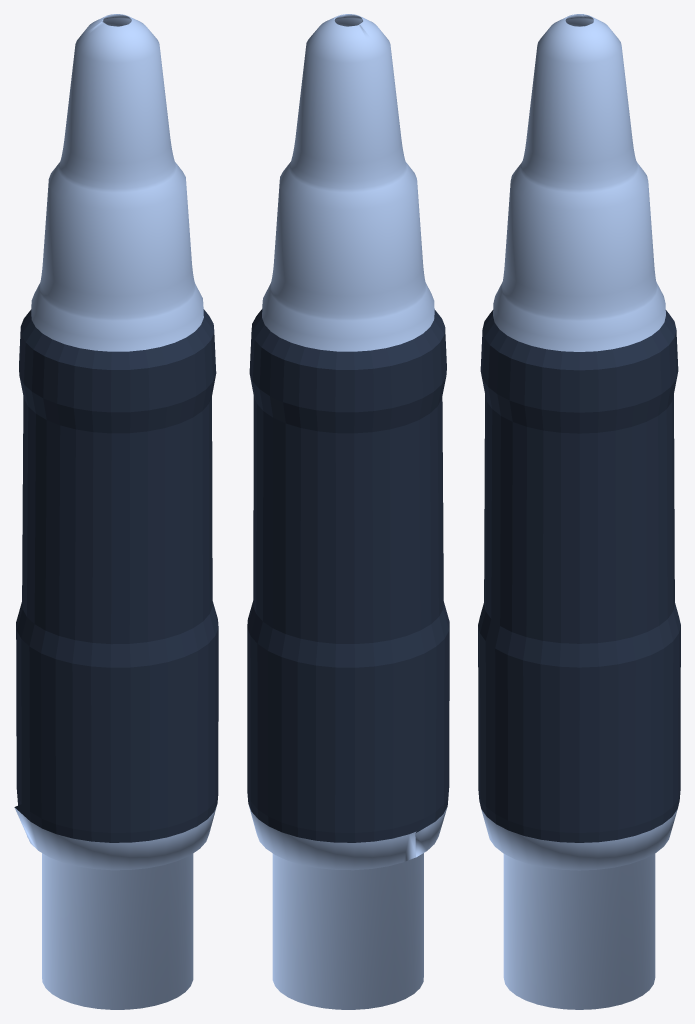
The model's file is pen1_1.fbx.
3 renders of one model, left to right at view 1: azimuth 30°, elevation 25°; view 2: azimuth 150°, elevation 25°; view 3: azimuth 270°, elevation 25°, orthographic.
Parts seen in each view (by area): view 1: pen1_1; view 2: pen1_1; view 3: pen1_1.
Part boxes in pixels (x1,y1,x2,y2): pen1_1: [14, 14, 218, 1009]; pen1_1: [247, 14, 449, 1009]; pen1_1: [478, 14, 680, 1009].
Size of the model in its own units: 13.54 by 70.49 by 13.54.
